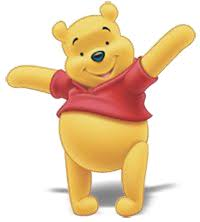Winnie: (38, 4, 158, 125)
